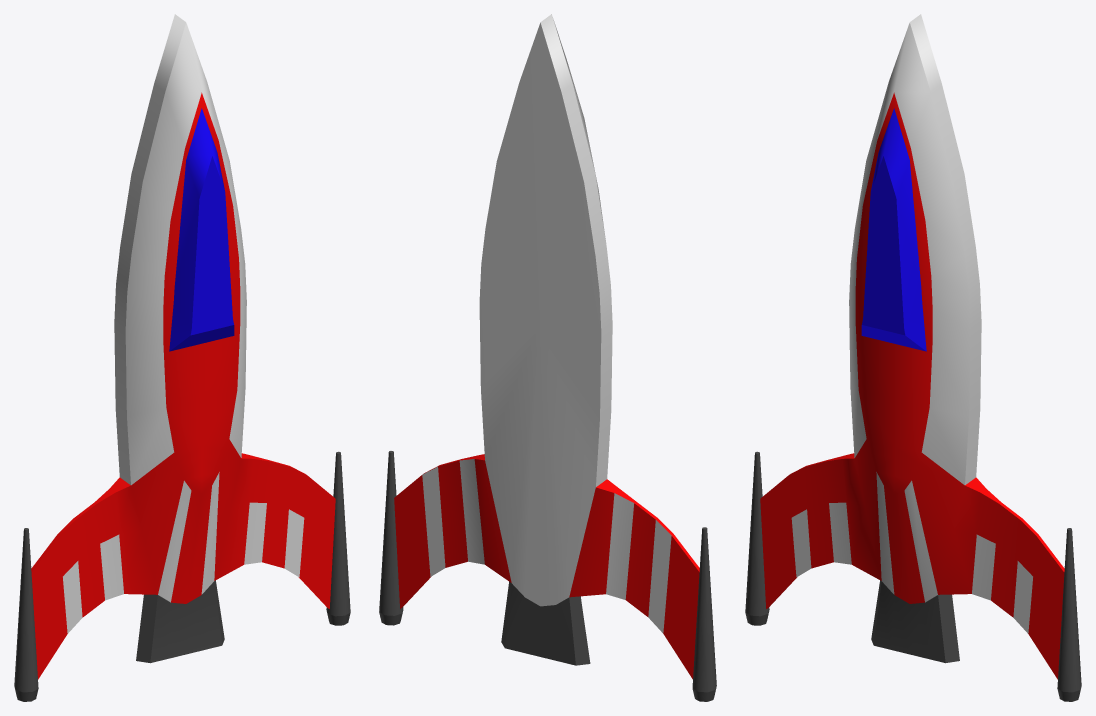
Rendered from Dagger.fbx.
The picture shows the model from 3 angles, left to right: view 1: azimuth 30°, elevation 25°; view 2: azimuth 150°, elevation 25°; view 3: azimuth 330°, elevation 25°; orthographic projection.
Visible parts, largest first — view 1: Dagger 1; view 2: Dagger 1; view 3: Dagger 1.
Boxes of the visible parts, x1=… form: Dagger 1: x1=14, y1=14, x2=350, y2=701; Dagger 1: x1=379, y1=14, x2=716, y2=701; Dagger 1: x1=745, y1=14, x2=1081, y2=701.
Size of the model in its own units: 43.41 by 79.55 by 8.53.
